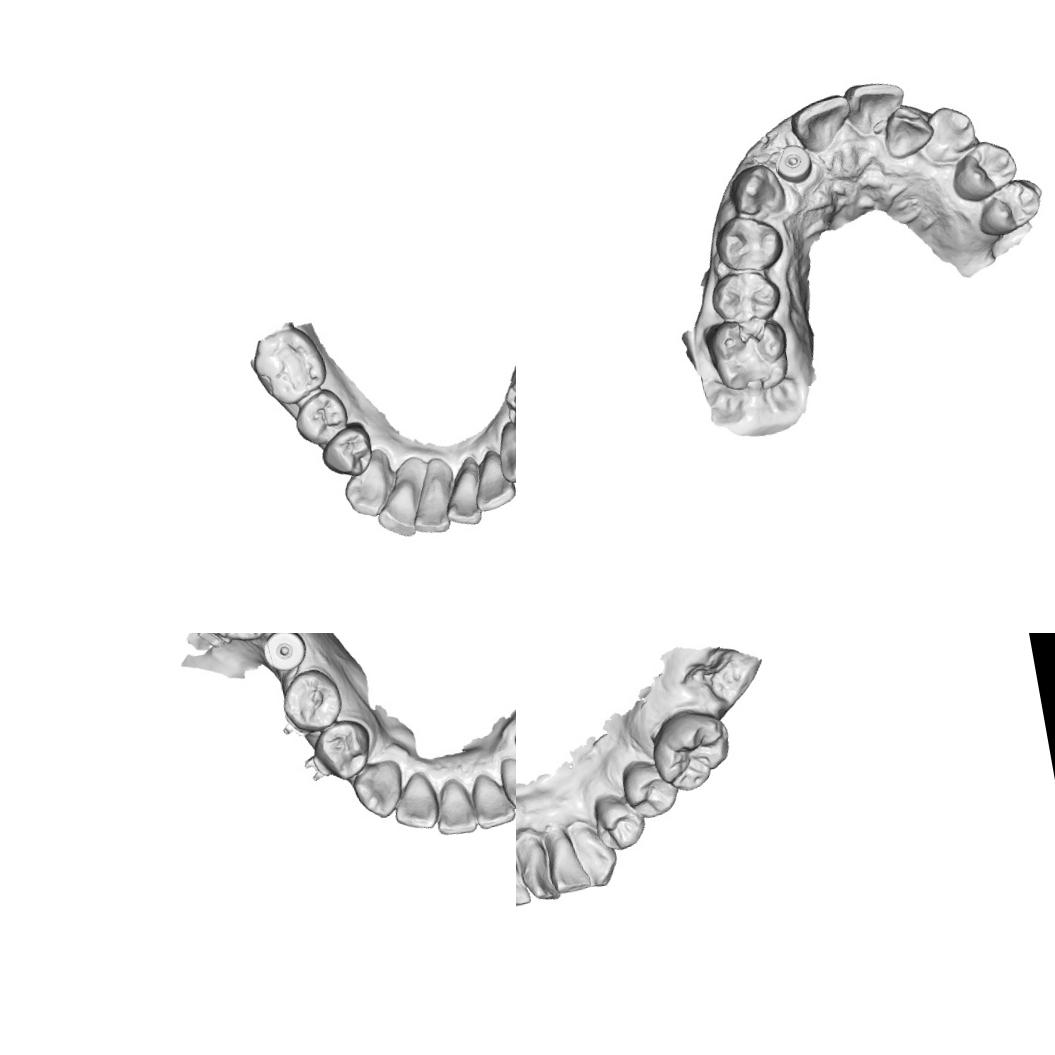canine: (336, 444, 398, 522), (722, 155, 786, 223), (347, 755, 411, 822), (919, 100, 980, 160), (580, 841, 622, 889), (489, 415, 516, 484)
implant: (258, 633, 308, 672), (772, 141, 812, 182)
incisor: (786, 91, 856, 157), (369, 464, 427, 541), (840, 77, 908, 142), (540, 816, 592, 895), (436, 453, 488, 529), (876, 99, 937, 163), (516, 821, 561, 903), (464, 444, 516, 513), (426, 777, 480, 838), (386, 772, 440, 833), (404, 470, 452, 538), (465, 768, 516, 832), (495, 749, 516, 815), (516, 866, 532, 910)
molar: (644, 701, 737, 796), (700, 310, 795, 396), (247, 321, 331, 409)
premolar: (307, 714, 380, 787), (709, 208, 786, 276), (946, 134, 1020, 204), (276, 664, 348, 734), (972, 174, 1046, 240), (706, 264, 781, 327), (617, 753, 682, 822), (588, 784, 650, 854), (288, 384, 352, 450), (316, 420, 376, 482), (500, 372, 516, 433)
